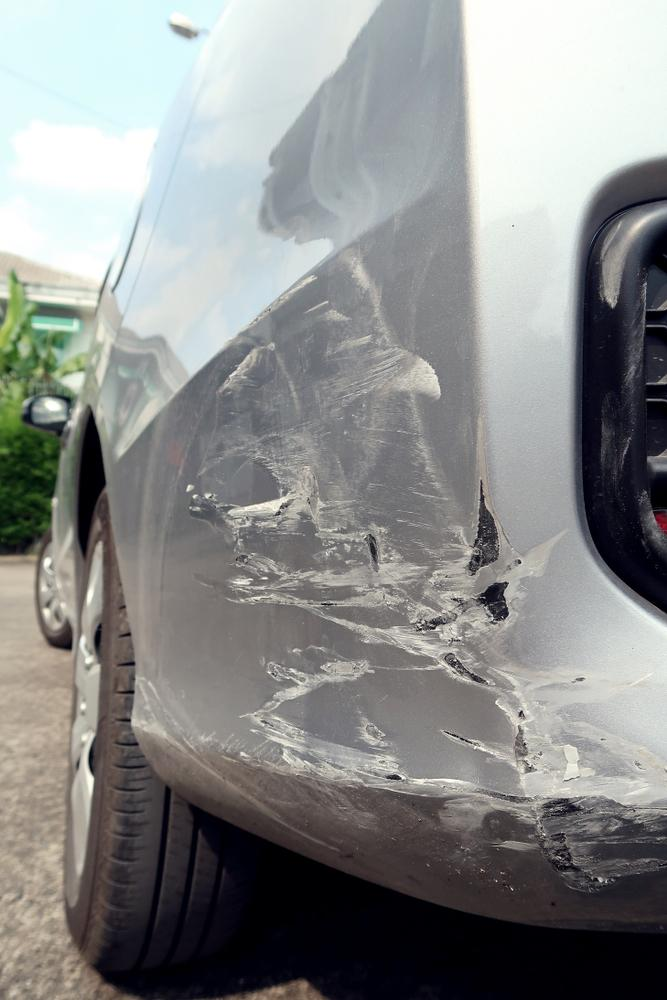scratch: (135, 245, 667, 898)
